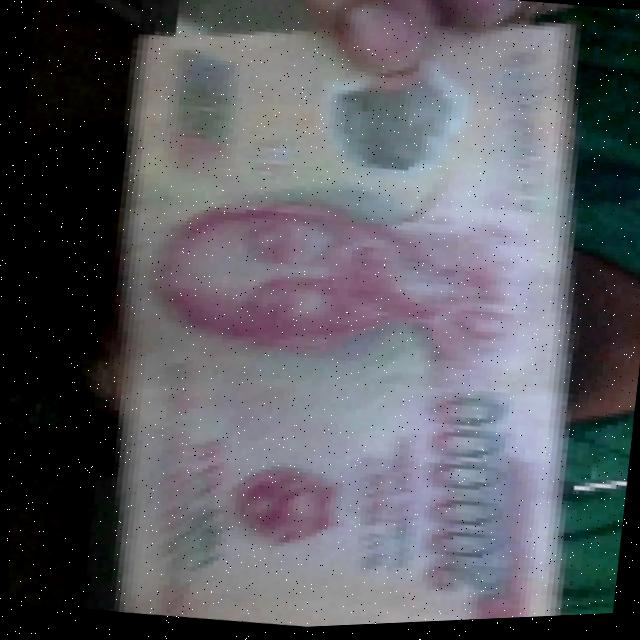200 000 VND: (57, 0, 634, 638)
